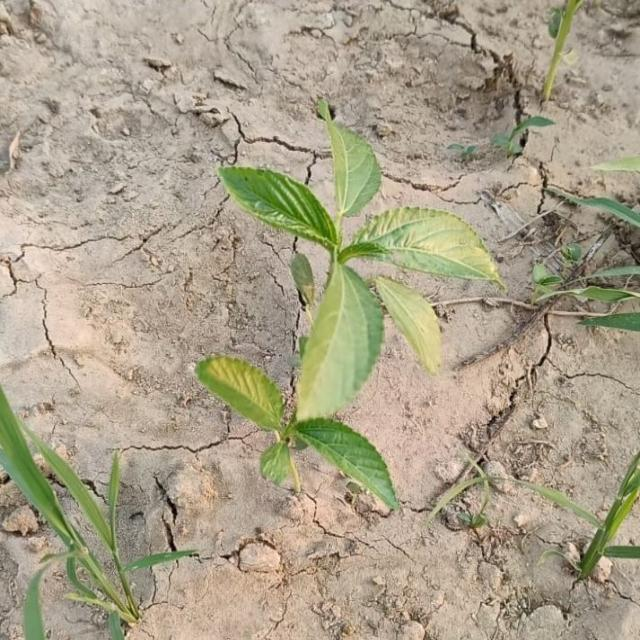plant: (196, 102, 501, 509)
